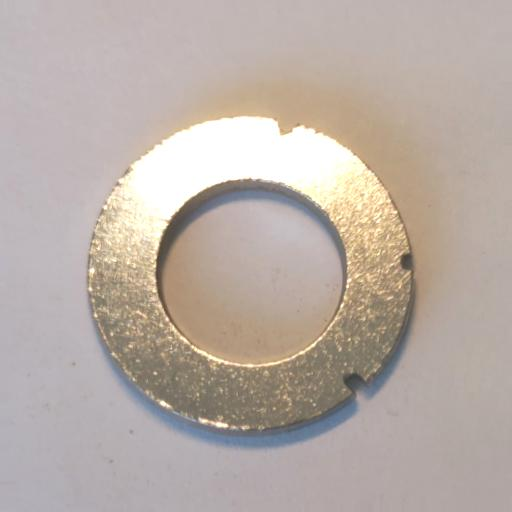burr: (273, 115, 303, 138), (342, 374, 367, 395), (398, 253, 414, 274)
